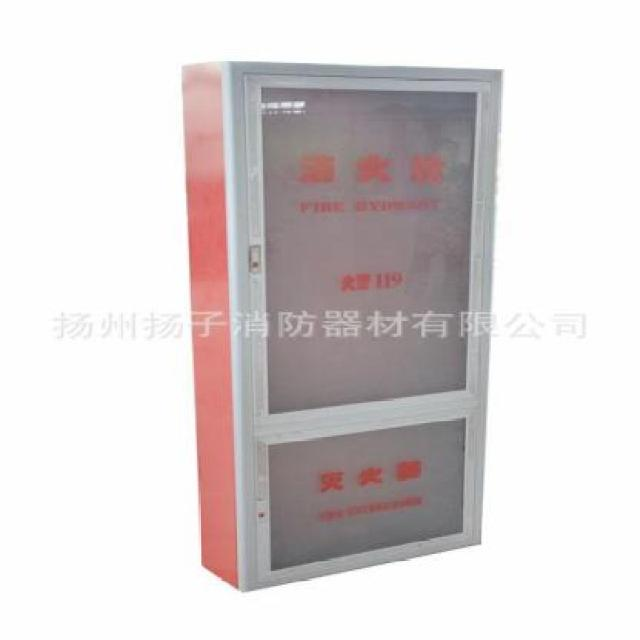firehydrant: (172, 54, 511, 598)
